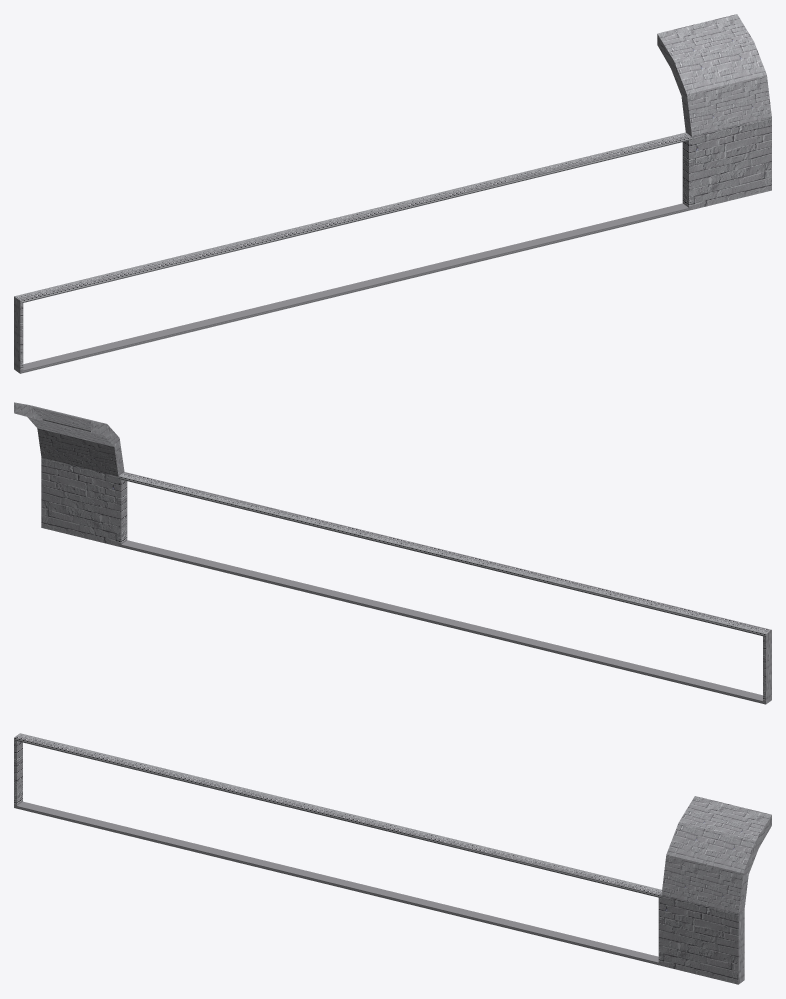
Rendered from room_2.glb.
3 renders of one model, top to bottom at view 1: azimuth 30°, elevation 25°; view 2: azimuth 150°, elevation 25°; view 3: azimuth 330°, elevation 25°, orthographic. The views are drawn at different scales.
Parts seen in each view (by area): view 1: Cube; view 2: Cube; view 3: Cube.
Boxes of the visible parts, box(x1,y1,x2,y2) form: Cube: box(14, 14, 771, 373); Cube: box(14, 402, 771, 704); Cube: box(14, 733, 771, 984).
Bounding box in the file's own units: 138 × 26.52 × 11.06.
1 material, 1 textured.
